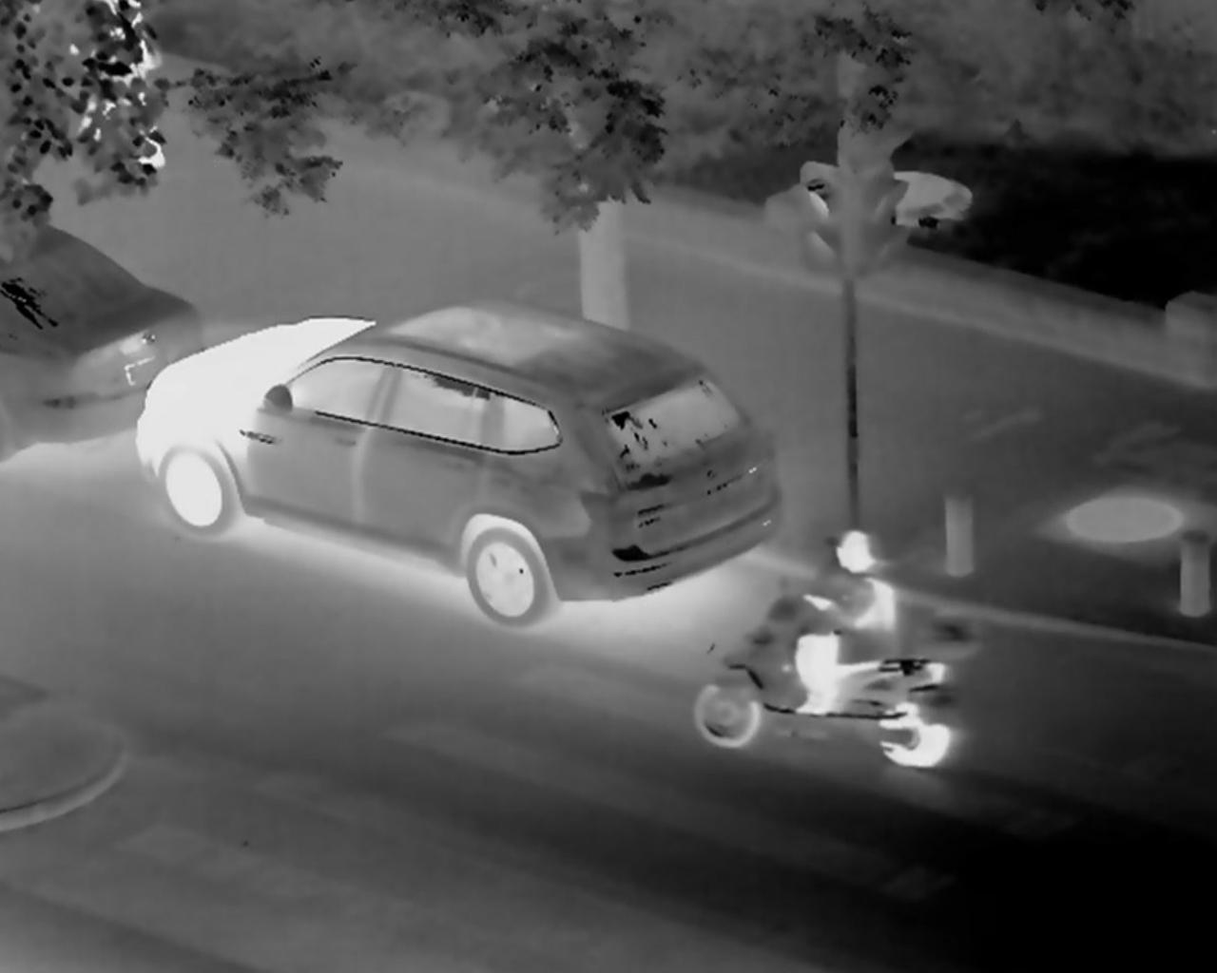person: (800, 535, 934, 766)
